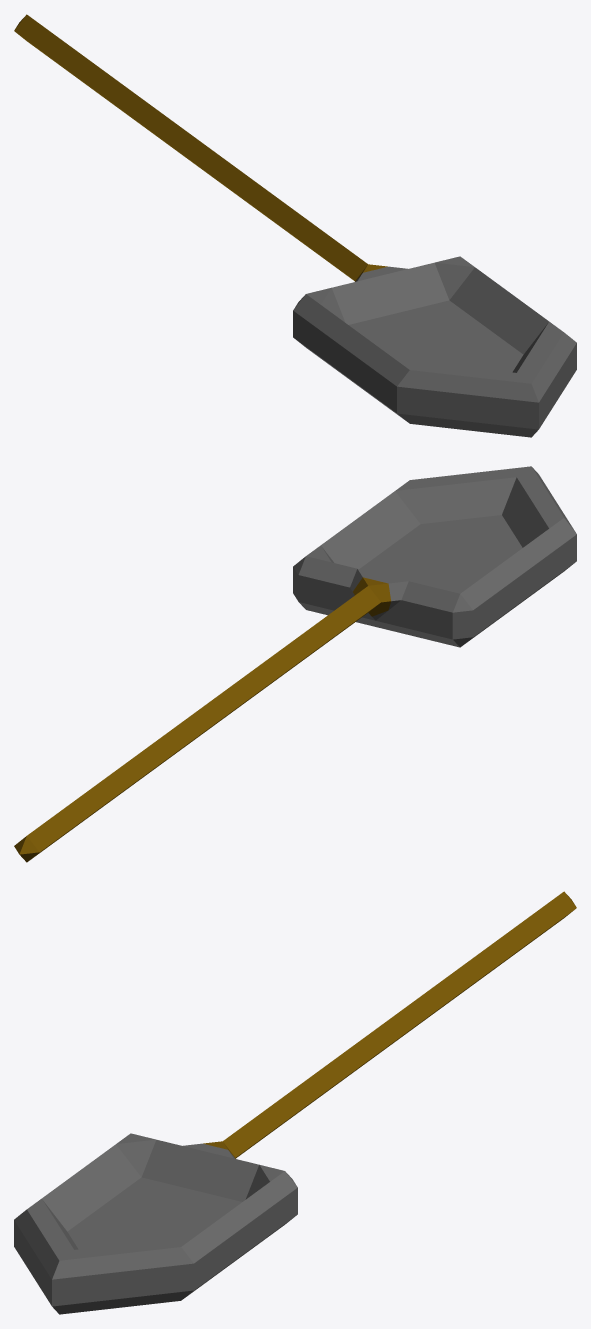
File: rc_shovel.fbx
3 renders of one model, top to bottom at view 1: azimuth 30°, elevation 25°; view 2: azimuth 150°, elevation 25°; view 3: azimuth 330°, elevation 25°, orthographic.
Visible parts, largest first — view 1: rc_shovel; view 2: rc_shovel; view 3: rc_shovel.
Part boxes in pixels (x1,y1,x2,y2): rc_shovel: (14,14,576,437); rc_shovel: (14,466,576,862); rc_shovel: (14,891,576,1314).
Bounding box in the file's own units: 700 × 200 × 3500.
